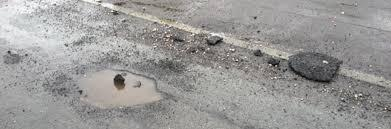pothole: (69, 59, 171, 123)
